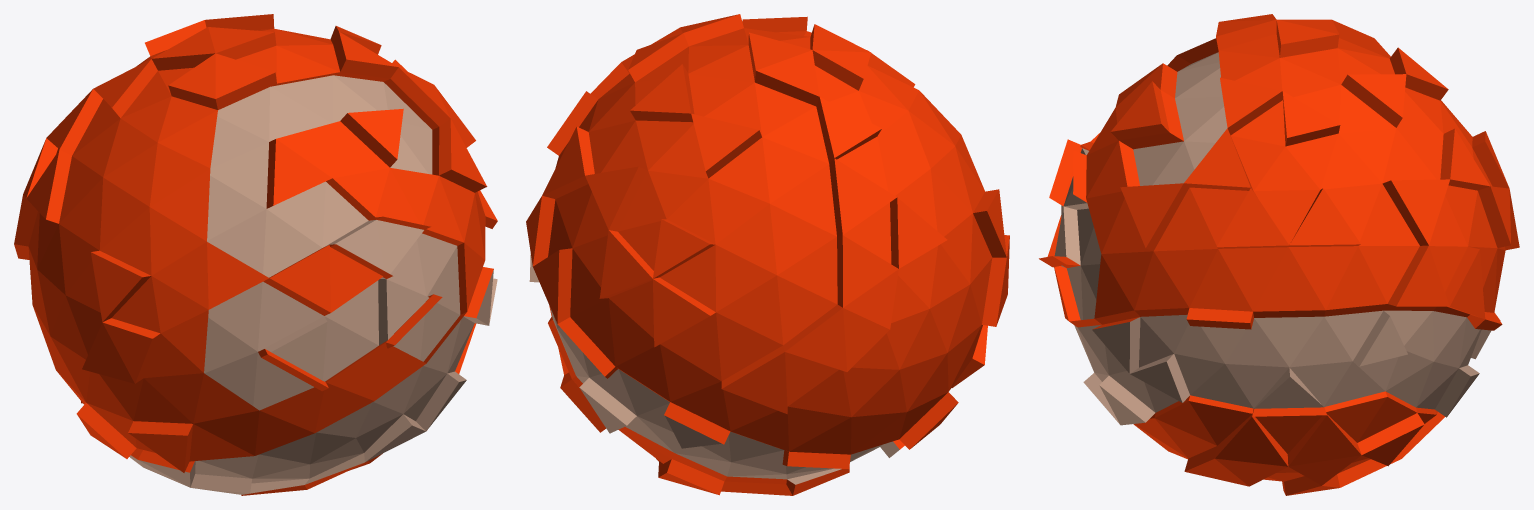
File: svelte-planet.glb
3 renders of one model, left to right at view 1: azimuth 30°, elevation 25°; view 2: azimuth 150°, elevation 25°; view 3: azimuth 270°, elevation 25°, orthographic. The views are drawn at different scales.
Parts seen in each view (by area): view 1: SveltePlanet; view 2: SveltePlanet; view 3: SveltePlanet.
Part boxes in pixels (left/top/right/bottom): SveltePlanet: left=14, top=14, right=497, bottom=495; SveltePlanet: left=526, top=14, right=1009, bottom=495; SveltePlanet: left=1039, top=14, right=1519, bottom=495.
Bounding box in the file's own units: 1.5 × 1.56 × 1.56.
